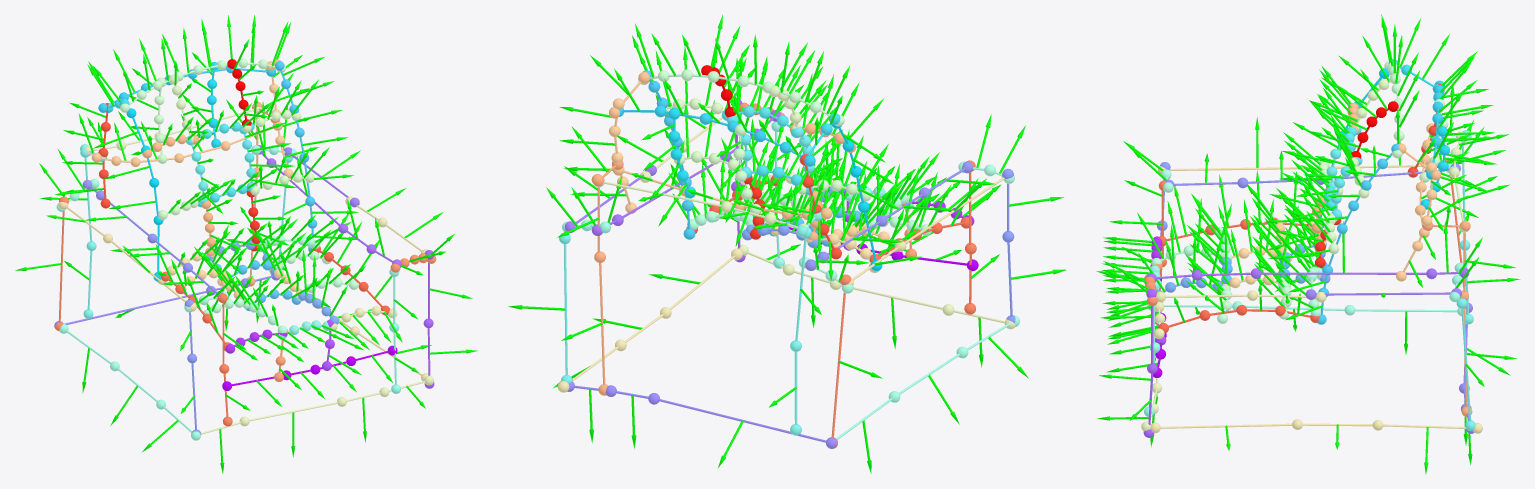
Rendered from author2_sofa.gltf.
3 renders of one model, left to right at view 1: azimuth 30°, elevation 25°; view 2: azimuth 150°, elevation 25°; view 3: azimuth 270°, elevation 25°, orthographic. The views are drawn at different scales.
Size of the model in its own units: 0.7178 by 0.77 by 0.7832.
